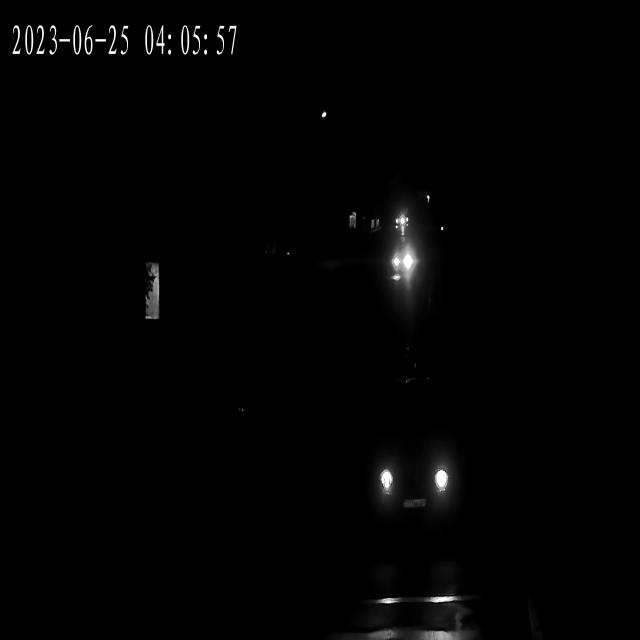Car: (362, 420, 458, 523), (388, 244, 419, 279), (392, 216, 408, 232), (392, 214, 408, 228)
